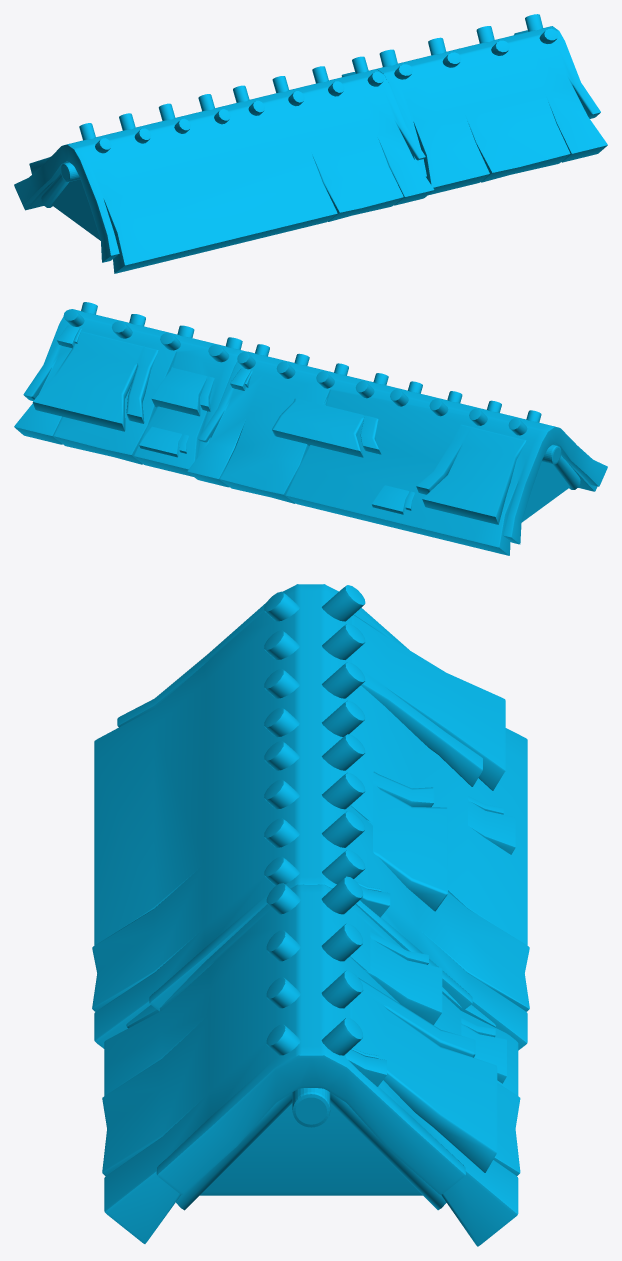
The model's file is SM_Clay_Roof_05.fbx.
The picture shows the model from 3 angles, top to bottom: view 1: azimuth 30°, elevation 25°; view 2: azimuth 150°, elevation 25°; view 3: azimuth 270°, elevation 25°; orthographic projection. The views are drawn at different scales.
Visible parts, largest first — view 1: SM_Clay_Roof_05; view 2: SM_Clay_Roof_05; view 3: SM_Clay_Roof_05.
Boxes of the visible parts, x1,y1,x2,y2 form: SM_Clay_Roof_05: [14, 14, 607, 273]; SM_Clay_Roof_05: [14, 302, 607, 555]; SM_Clay_Roof_05: [92, 584, 529, 1246].
Size of the model in its own units: 3.15 by 0.6441 by 1.2.
